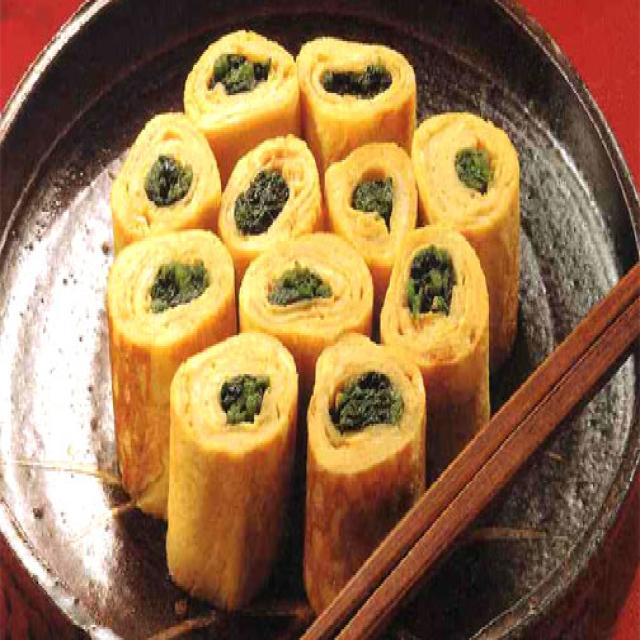鸡蛋料理: (95, 13, 528, 618)
